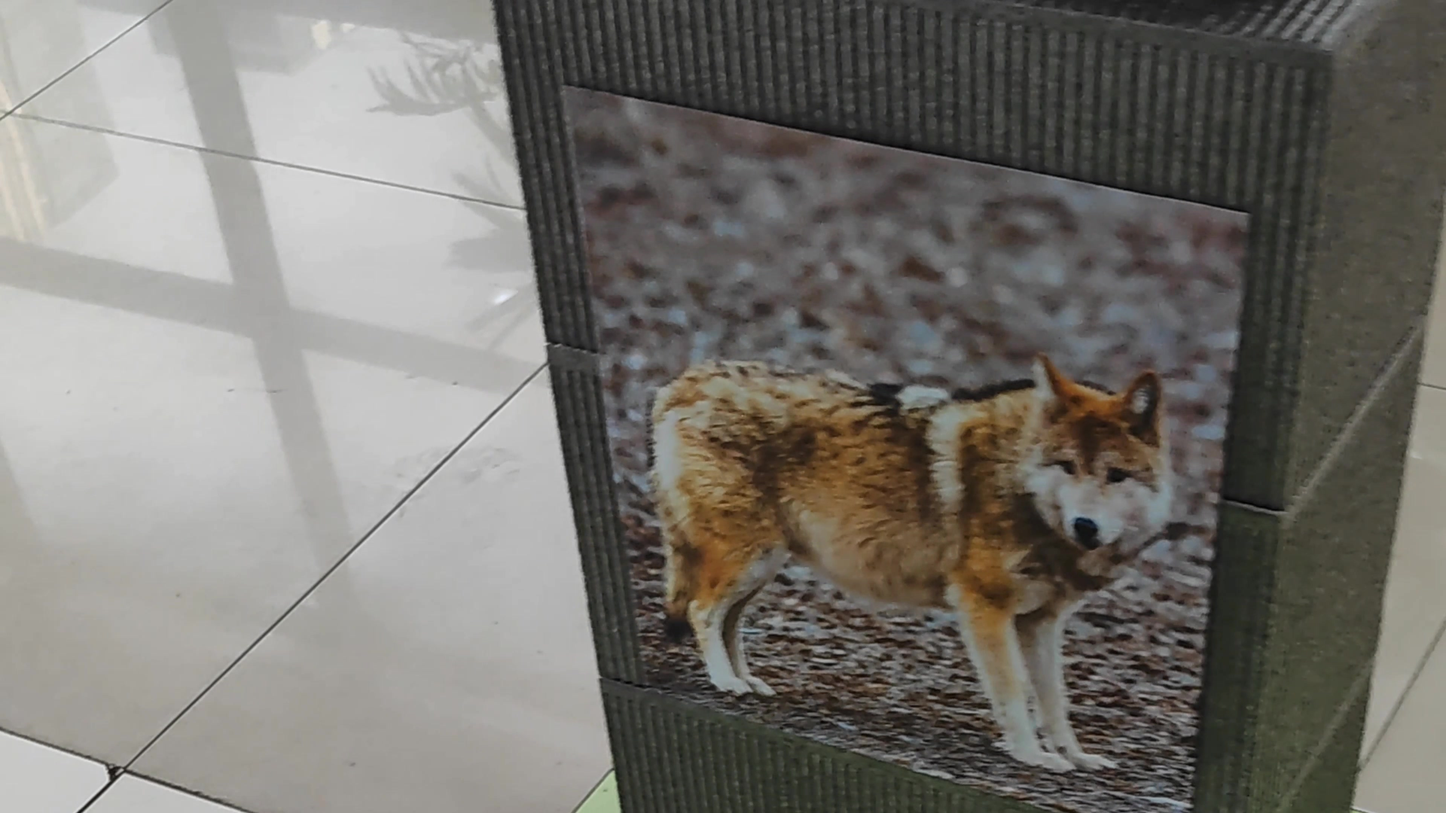wolf: (651, 281, 1203, 808)
